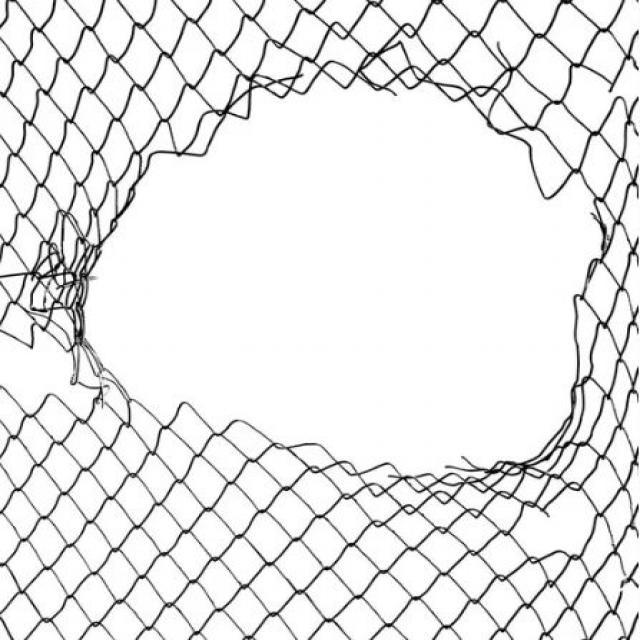fence line: (73, 61, 616, 510)
